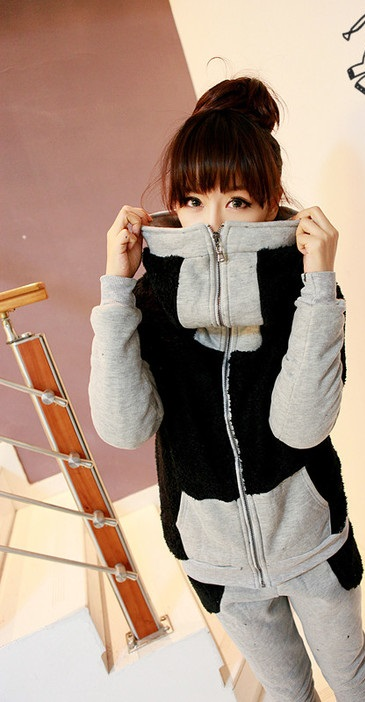face_mask: (176, 146, 262, 263)
